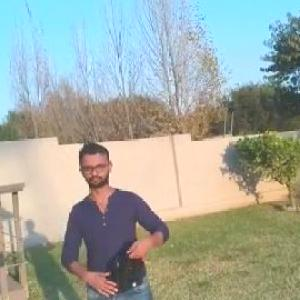follow: (56, 138, 176, 299)
